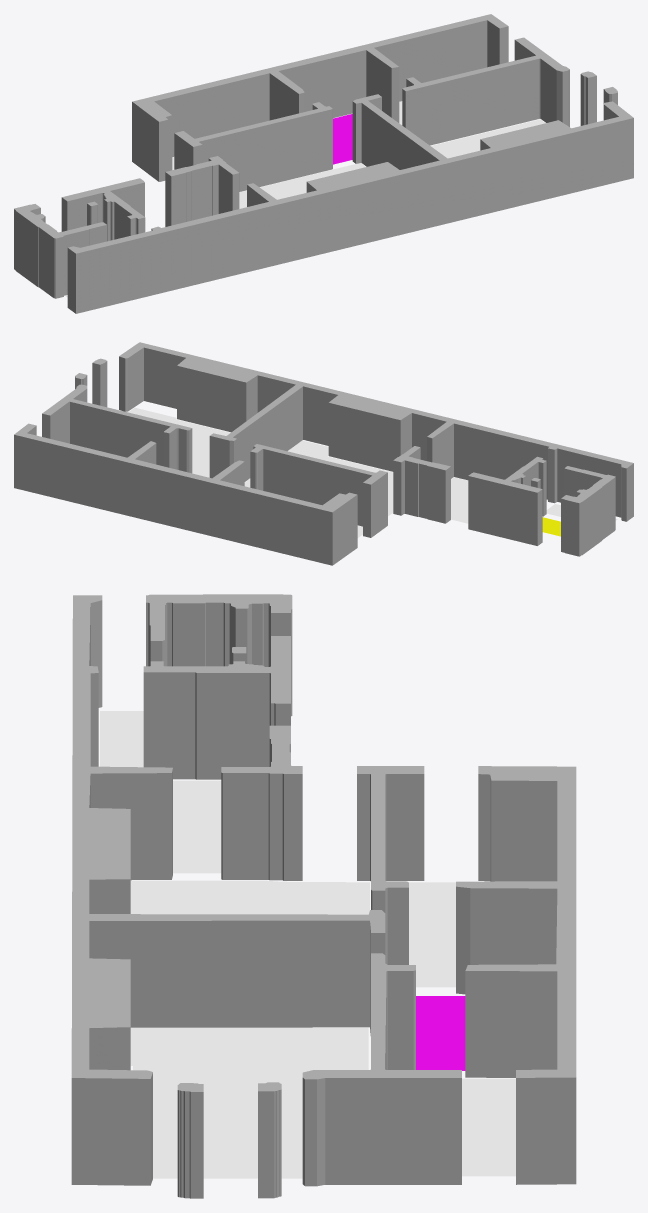
Rendered from floorplan.glb.
The picture shows the model from 3 angles, top to bottom: view 1: azimuth 30°, elevation 25°; view 2: azimuth 150°, elevation 25°; view 3: azimuth 270°, elevation 25°; orthographic projection. The views are drawn at different scales.
Visible parts, largest first — view 1: Box8Wall159, Box2Wall32, Box4Wall77, VertWalls17, Box3Wall58, Box3Wall67, Box3Wall63, VertWalls7, Box8Wall176, Box3Wall72, Box9Wall196, Room4 (+24 smaller); view 2: Box3Wall71, VertWalls17, Box4Wall88, Box8Wall179, Box7Wall136, Box8Wall166, Box2Wall44, Box8Wall185, Box8Wall176, VertWalls7, Box8Wall164, Box8Wall189 (+34 smaller); view 3: Box8Wall169, Room1, VertWalls17, Box2Wall40, Box3Wall66, VertWalls7, Box8Wall160, Room4, Box7Wall130, Box3Wall57, Box3Wall62, Box3Wall70 (+31 smaller).
Part boxes in pixels (x1,y1,x2,y2): Box8Wall159: (76, 118, 633, 313); Box2Wall32: (405, 58, 539, 145); Box4Wall77: (199, 109, 331, 191); VertWalls17: (68, 94, 633, 253); Box3Wall58: (154, 73, 269, 156); Box3Wall67: (374, 20, 487, 101); Box3Wall63: (279, 50, 366, 117); VertWalls7: (132, 14, 508, 121); Box8Wall176: (361, 103, 439, 169); Box3Wall72: (132, 102, 158, 181); Box9Wall196: (15, 211, 37, 286); Room4: (239, 163, 365, 208); Box3Wall71: (14, 434, 332, 565); VertWalls17: (119, 342, 633, 468); Box4Wall88: (263, 449, 371, 526); Box8Wall179: (328, 403, 400, 471); Box7Wall136: (468, 476, 537, 545); Box8Wall166: (177, 365, 246, 432); Box2Wall44: (70, 402, 170, 466); Box8Wall185: (454, 423, 548, 499); Box8Wall176: (233, 387, 302, 481); VertWalls7: (14, 423, 356, 512); Box8Wall164: (144, 347, 185, 408); Box8Wall189: (557, 448, 621, 517); Box8Wall169: (89, 920, 369, 1027); Room1: (130, 1027, 368, 1178); VertWalls17: (71, 595, 385, 1078); Box2Wall40: (325, 1078, 461, 1184); Box3Wall66: (465, 971, 557, 1077); VertWalls7: (456, 766, 576, 1077); Box8Wall160: (71, 1078, 150, 1185); Room4: (130, 880, 369, 914); Box7Wall130: (196, 673, 269, 779); Box3Wall57: (491, 780, 557, 881); Box3Wall62: (470, 888, 557, 964); Box3Wall70: (516, 1077, 576, 1184).
Size of the model in its own units: 9.99 by 1 by 4.28.
